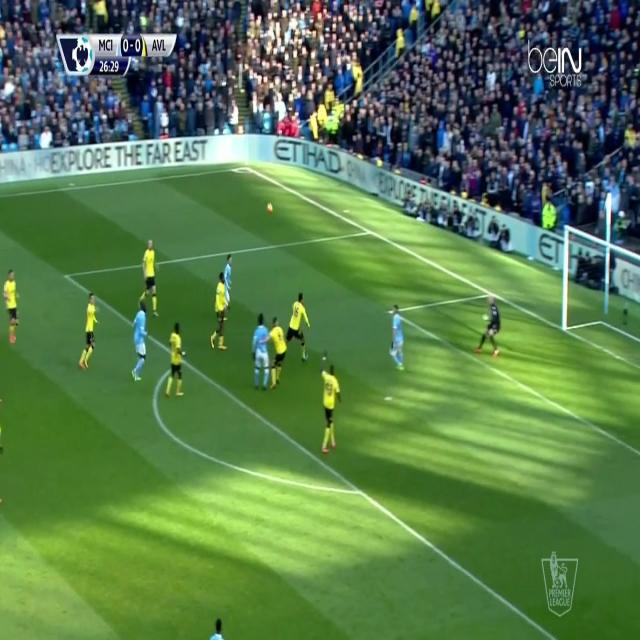Ball: (266, 200, 274, 218)
Goalkeeper: (472, 292, 501, 359)
Player: (318, 357, 342, 457), (77, 291, 102, 373), (287, 288, 313, 366), (128, 297, 148, 387), (164, 323, 187, 400), (250, 310, 272, 390), (268, 313, 289, 396), (0, 265, 21, 346), (141, 237, 161, 318), (210, 272, 229, 352), (388, 301, 408, 376), (222, 252, 235, 297)
